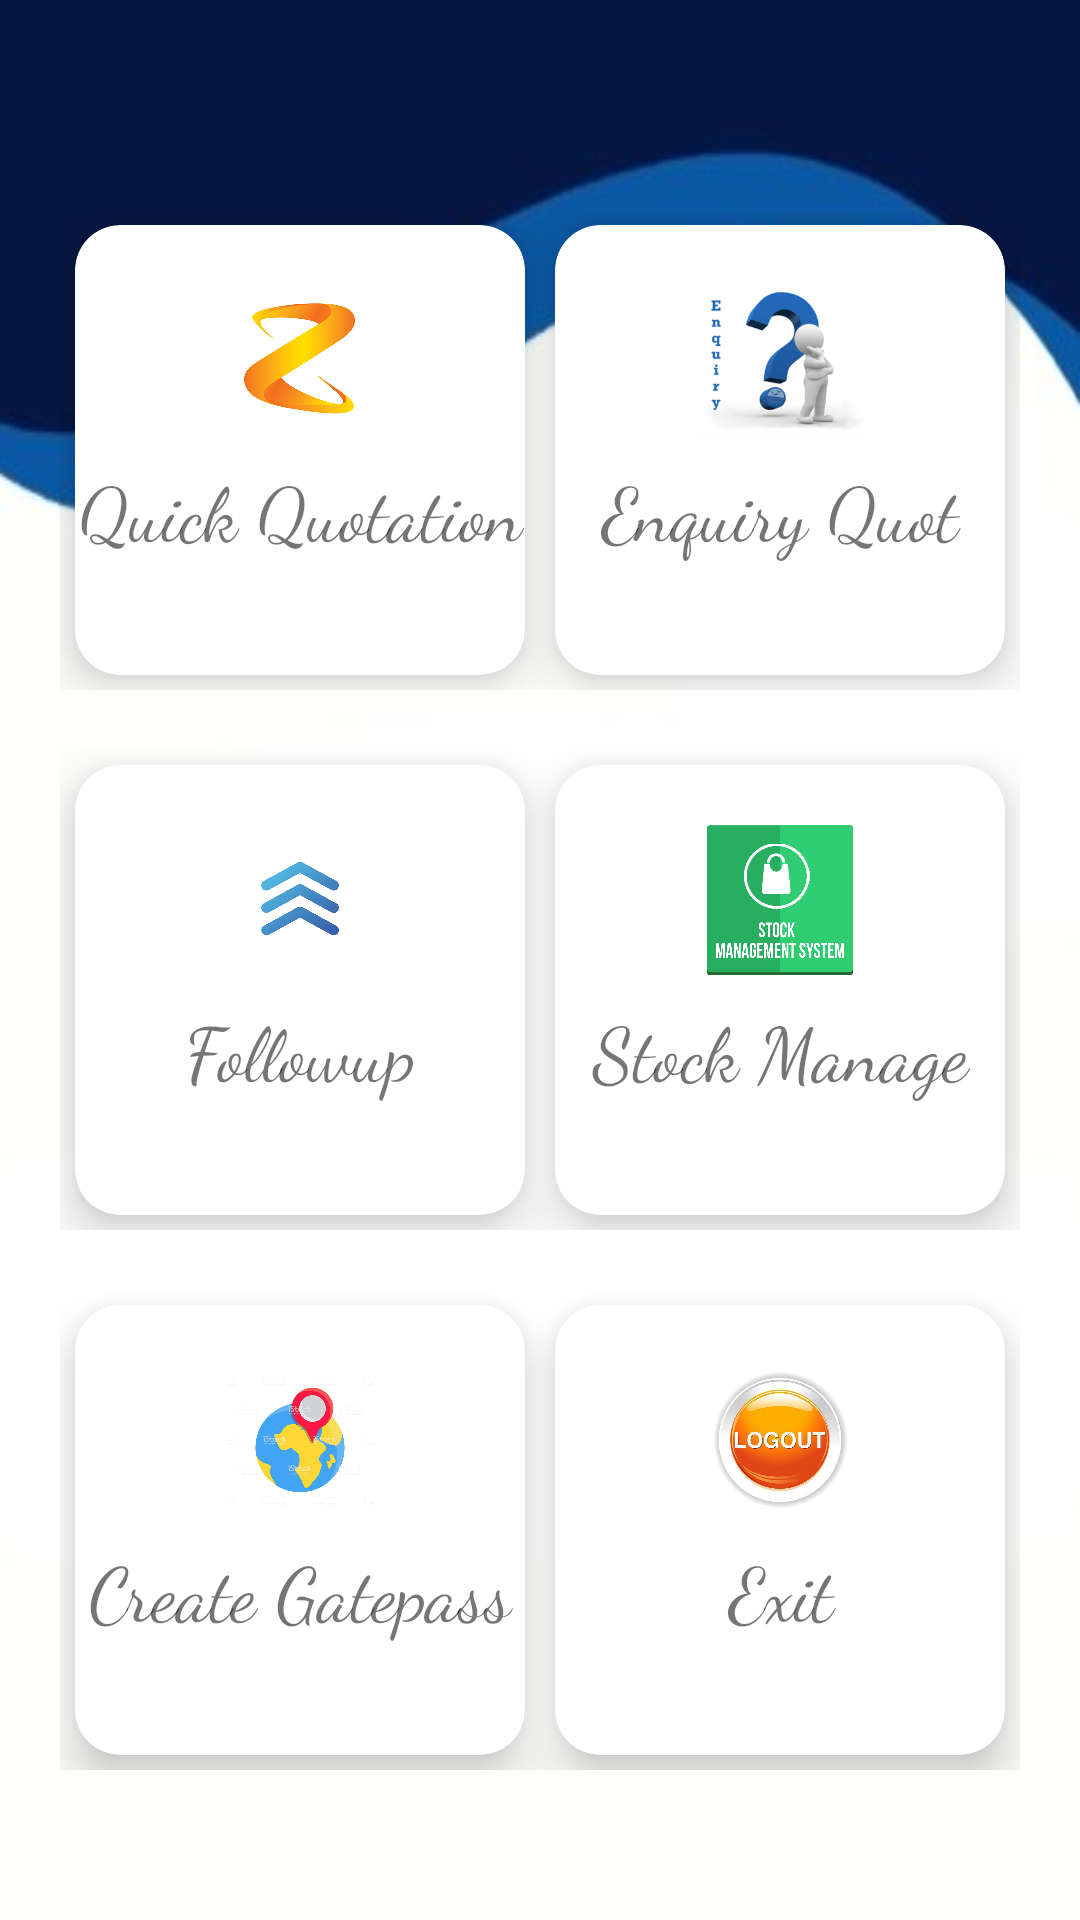

Screen size 1080px x 1920px. Icon name, then its center in pixels as point (x, y):
vehicleloaction: point (300, 1440)
